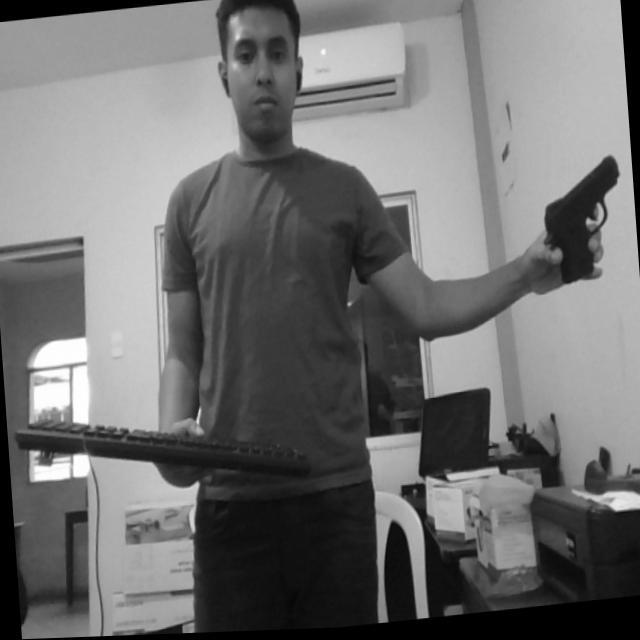weapon: (538, 158, 630, 293)
